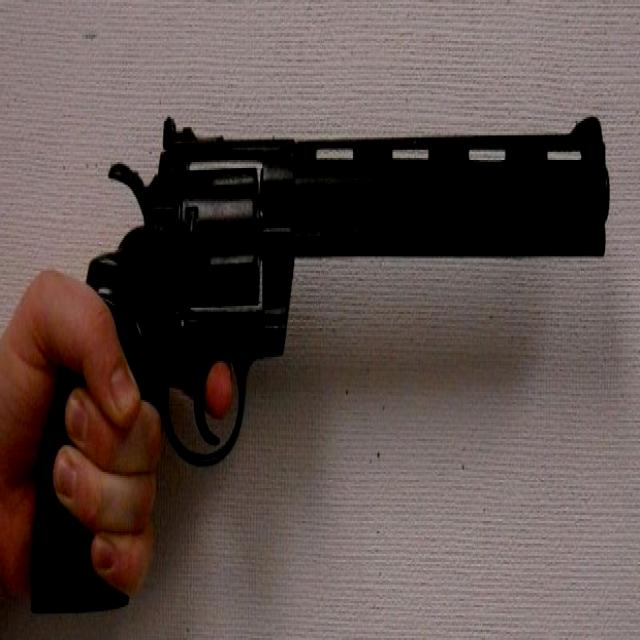pistol: (34, 105, 614, 613)
